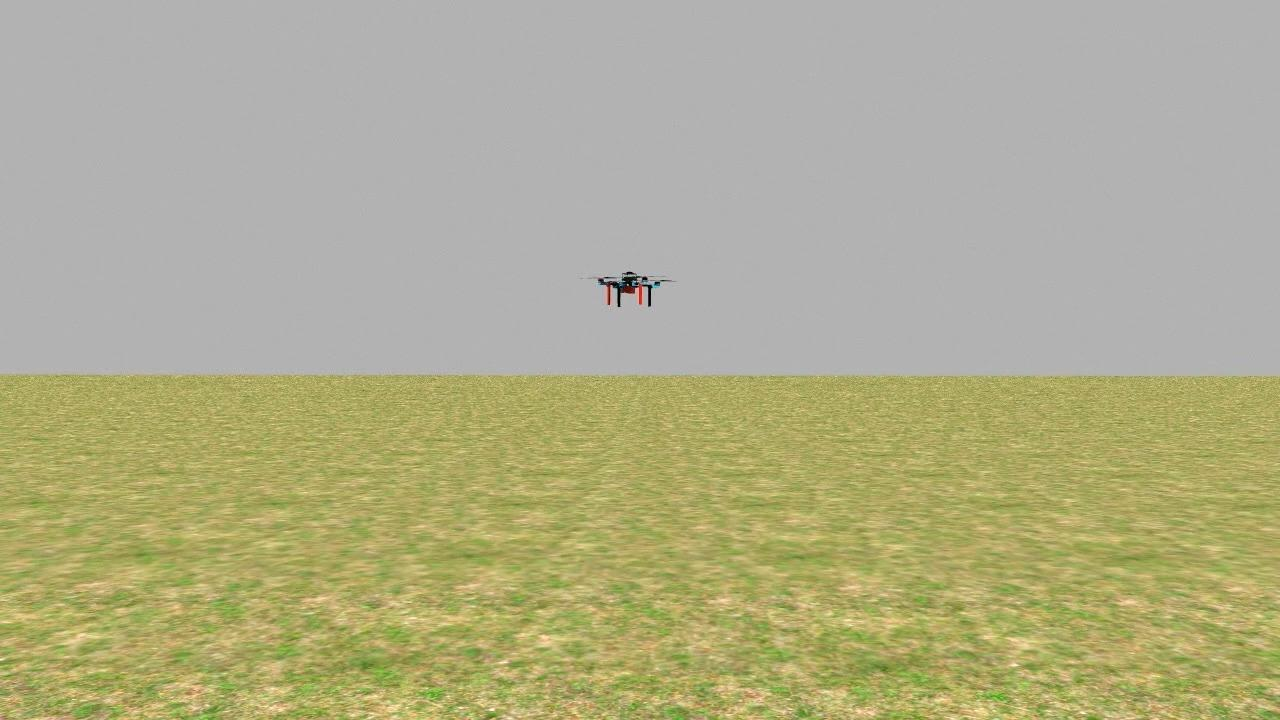UAV: (585, 261, 669, 312)
